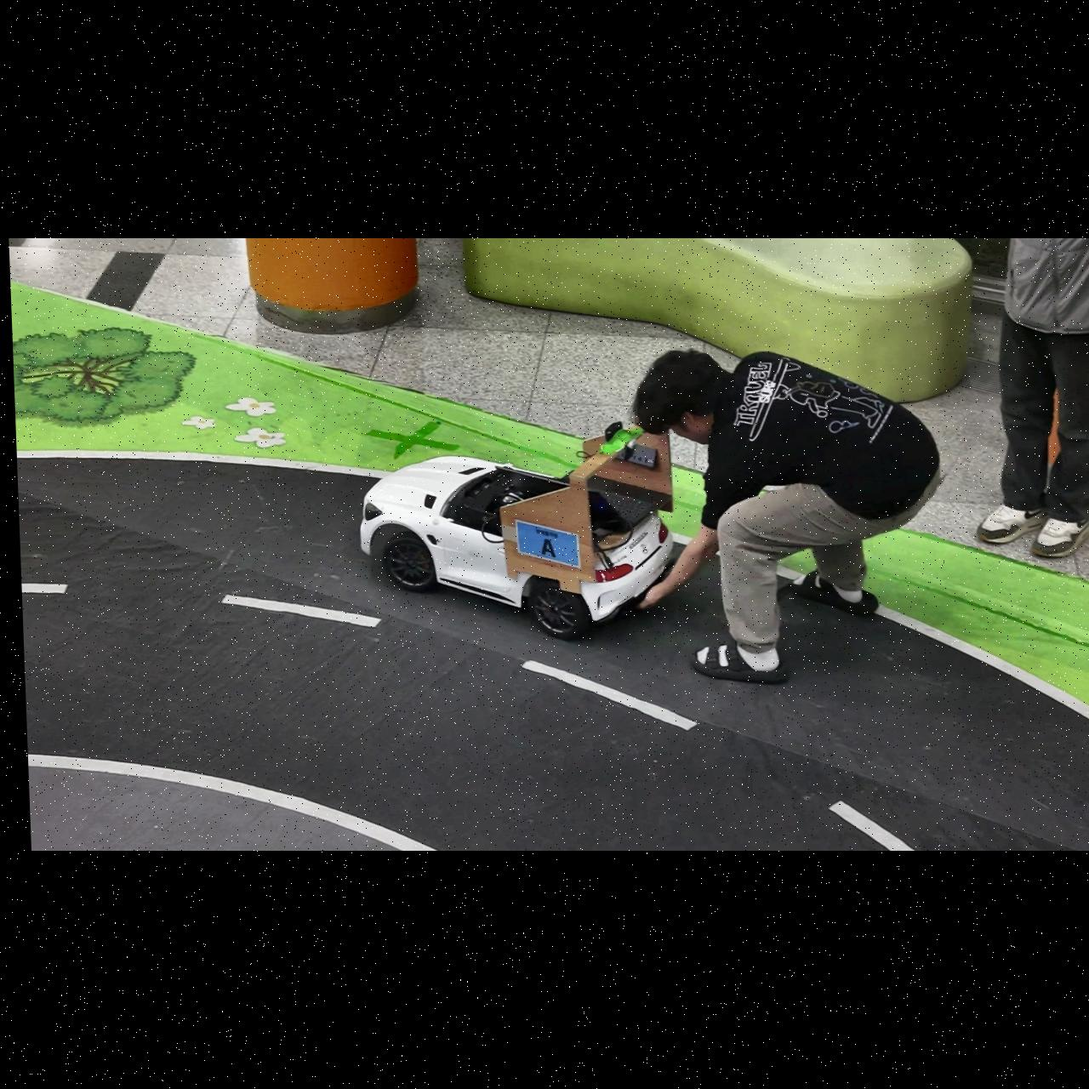broken_line: (522, 660, 698, 730), (222, 594, 382, 627), (828, 800, 915, 850), (22, 583, 68, 593)
